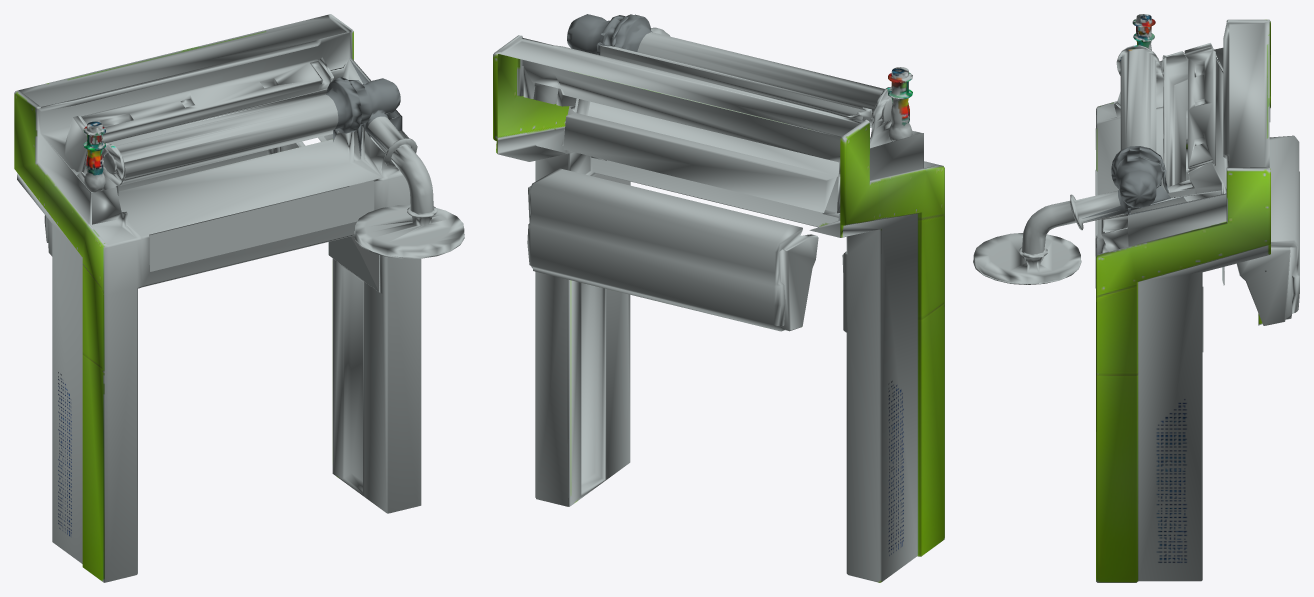
The model's file is JWF0019A-灰白优化-20260924.glb.
3 renders of one model, left to right at view 1: azimuth 30°, elevation 25°; view 2: azimuth 150°, elevation 25°; view 3: azimuth 270°, elevation 25°, orthographic. The views are drawn at different scales.
Parts seen in each view (by area): view 1: G2WSMYxhXro_wle7SCTU2001, 主体GLB所选面填色.013; view 2: G2WSMYxhXro_wle7SCTU2001, 主体GLB所选面填色.010; view 3: G2WSMYxhXro_wle7SCTU2001.
Part boxes in pixels (x1=…): G2WSMYxhXro_wle7SCTU2001: x1=14, y1=14, x2=464, y2=582; 主体GLB所选面填色.013: x1=105, y1=176, x2=421, y2=582; G2WSMYxhXro_wle7SCTU2001: x1=493, y1=14, x2=944, y2=582; 主体GLB所选面填色.010: x1=536, y1=154, x2=567, y2=506; G2WSMYxhXro_wle7SCTU2001: x1=973, y1=14, x2=1299, y2=582.
Bounding box in the file's own units: 2.76 × 3.62 × 2.53.
18 materials, 1 textured.
